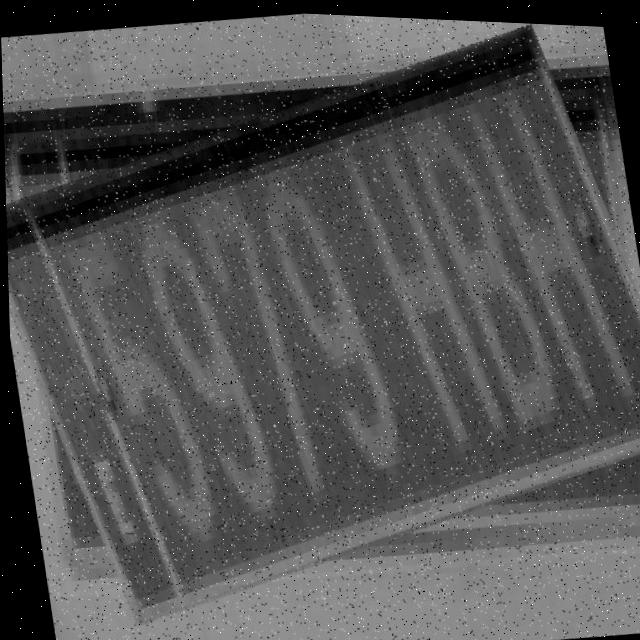LicensePlate: (1, 24, 640, 619)
